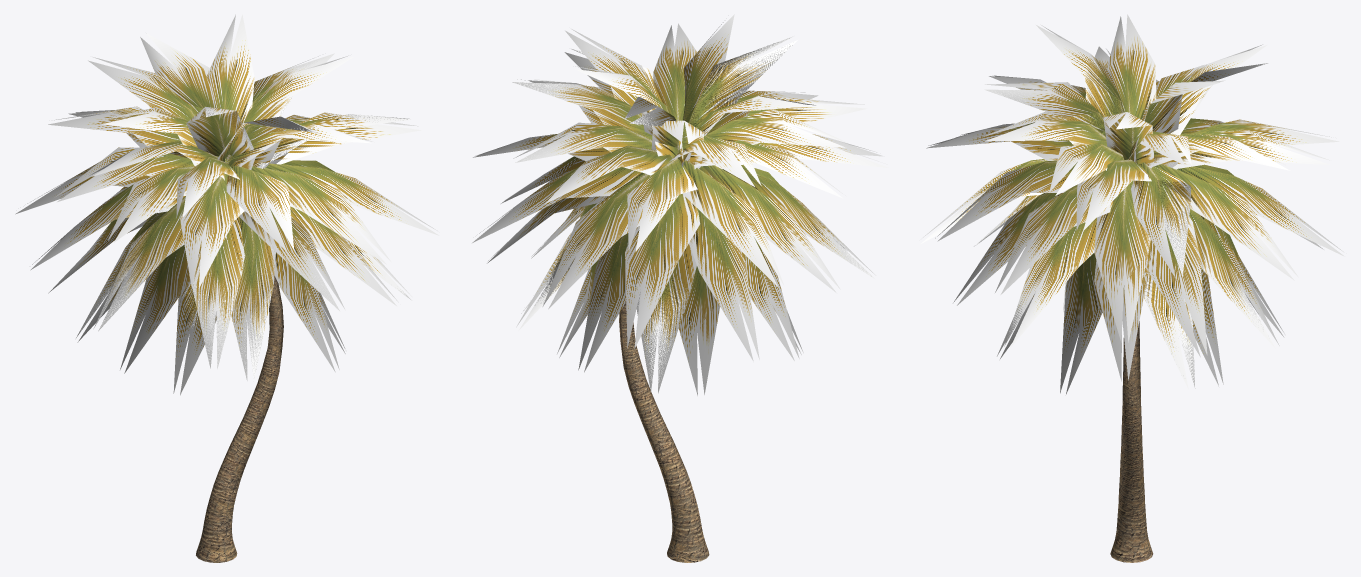
Rendered from Palm_tree-1.fbx.
3 renders of one model, left to right at view 1: azimuth 30°, elevation 25°; view 2: azimuth 150°, elevation 25°; view 3: azimuth 270°, elevation 25°, orthographic. The views are drawn at different scales.
Visible parts, largest first — view 1: palm_Tree_LOD00; view 2: palm_Tree_LOD00; view 3: palm_Tree_LOD00.
Part boxes in pixels (x1,y1,x2,y2): palm_Tree_LOD00: [15, 14, 439, 562]; palm_Tree_LOD00: [472, 14, 888, 562]; palm_Tree_LOD00: [921, 14, 1344, 562].
Size of what is drawn, in the model's own units: 773 by 1020 by 782.
